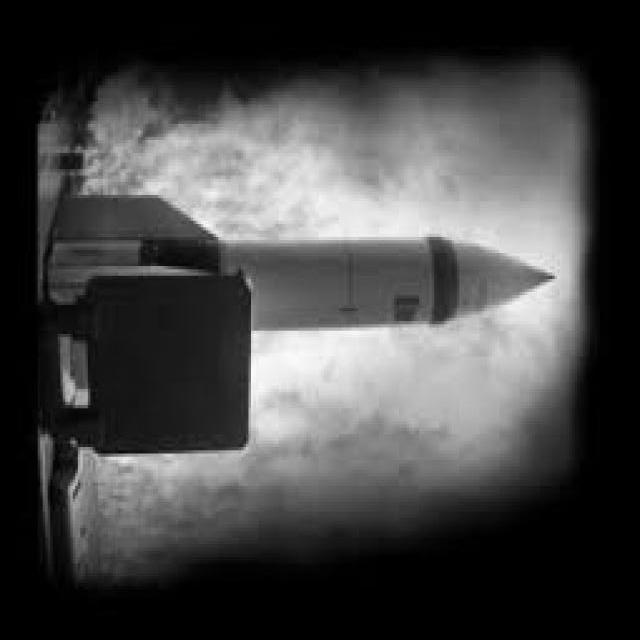Missile: (43, 221, 568, 329)
